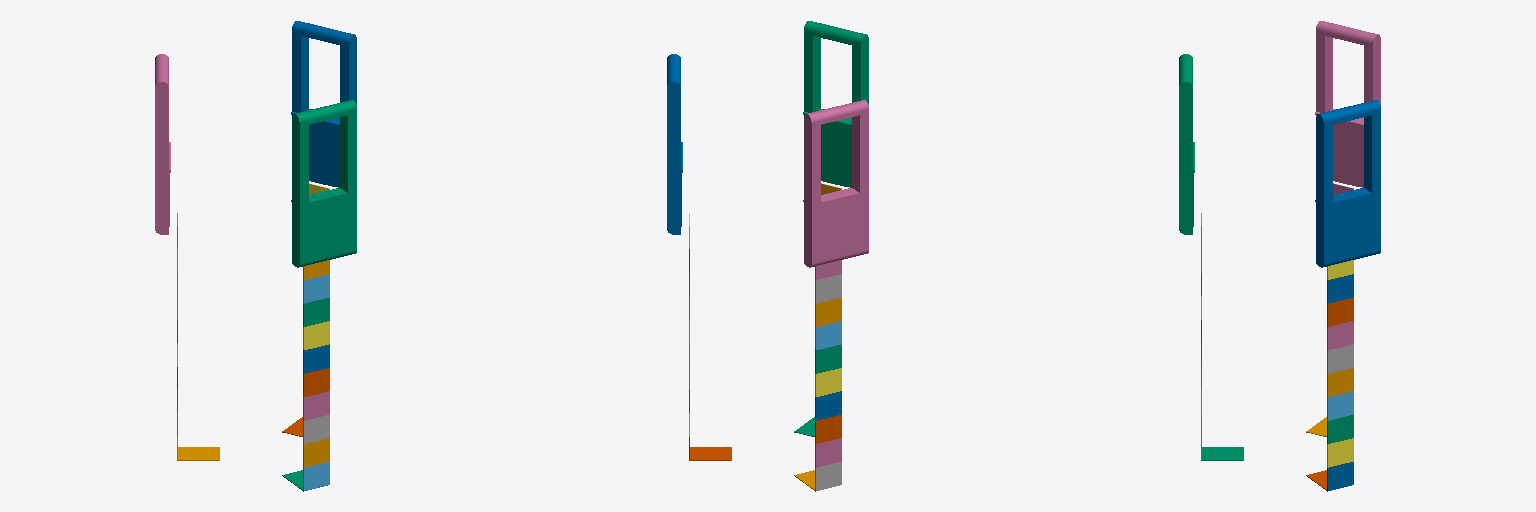
--- What the picture shows (computed from the rendered views, not written in the file) ---
3 views of the same robot in one strip: view 1: azimuth 30°, elevation 25°; view 2: azimuth 150°, elevation 25°; view 3: azimuth 270°, elevation 25° (orthographic).
Model gripper with 42 links and 41 joints (30 revolute, 4 prismatic, 7 fixed), rooted at world, posed joints at zero except 3 at the middle of their limits (finger_1_prismatic_joint = 0.0915, finger_2_prismatic_joint = 0.0915, finger_3_prismatic_joint = 0.0915).
Links seen in each view (by area): view 1: finger_1, finger_2, finger_3, finger_1_segment_link_7, finger_1_segment_link_2, finger_1_segment_link_3, finger_1_segment_link_5, finger_1_segment_link_9, finger_1_segment_link_4, finger_1_segment_link_10, finger_1_segment_link_6, finger_1_segment_link_8 (+1 smaller); view 2: finger_3, finger_1, finger_2, finger_3_segment_link_7, finger_3_segment_link_2, finger_3_segment_link_3, finger_3_segment_link_5, finger_3_segment_link_9, finger_3_segment_link_4, finger_3_segment_link_10, finger_3_segment_link_6, finger_3_segment_link_8 (+1 smaller); view 3: finger_2, finger_3, finger_1, finger_2_segment_link_7, finger_2_segment_link_2, finger_2_segment_link_3, finger_2_segment_link_5, finger_2_segment_link_9, finger_2_segment_link_4, finger_2_segment_link_10, finger_2_segment_link_6, finger_2_segment_link_8 (+1 smaller).
Boxes of the visible links, box(x1,y1,x2,y2) form: finger_1: box(291, 100, 356, 267); finger_2: box(291, 21, 356, 187); finger_3: box(155, 54, 170, 234); finger_1_segment_link_7: box(303, 391, 329, 420); finger_1_segment_link_2: box(303, 274, 329, 303); finger_1_segment_link_3: box(303, 298, 329, 326); finger_1_segment_link_5: box(303, 344, 329, 373); finger_1_segment_link_9: box(303, 438, 329, 467); finger_1_segment_link_4: box(303, 321, 329, 349); finger_1_segment_link_10: box(303, 462, 329, 490); finger_1_segment_link_6: box(303, 368, 329, 396); finger_1_segment_link_8: box(303, 415, 329, 443); finger_3: box(803, 100, 868, 267); finger_1: box(803, 21, 868, 187); finger_2: box(667, 54, 682, 234); finger_3_segment_link_7: box(815, 391, 841, 420); finger_3_segment_link_2: box(815, 274, 841, 303); finger_3_segment_link_3: box(815, 298, 841, 326); finger_3_segment_link_5: box(815, 344, 841, 373); finger_3_segment_link_9: box(815, 438, 841, 467); finger_3_segment_link_4: box(815, 321, 841, 349); finger_3_segment_link_10: box(815, 462, 841, 490); finger_3_segment_link_6: box(815, 368, 841, 396); finger_3_segment_link_8: box(815, 415, 841, 443); finger_2: box(1315, 100, 1380, 267); finger_3: box(1315, 21, 1380, 187); finger_1: box(1179, 54, 1194, 234); finger_2_segment_link_7: box(1327, 391, 1353, 420); finger_2_segment_link_2: box(1327, 274, 1353, 303); finger_2_segment_link_3: box(1327, 298, 1353, 326); finger_2_segment_link_5: box(1327, 344, 1353, 373); finger_2_segment_link_9: box(1327, 438, 1353, 467); finger_2_segment_link_4: box(1327, 321, 1353, 349); finger_2_segment_link_10: box(1327, 462, 1353, 490); finger_2_segment_link_6: box(1327, 368, 1353, 396); finger_2_segment_link_8: box(1327, 415, 1353, 443).
Size in the robot's own frame: 0.2121 by 0.1839 by 0.3874 metres.
Meshes: 4 distinct files referenced, 3 mesh visuals loaded (1 binary STL); not drawn: 5 (reference not matched to a file when rendering).

The robot description file, URDF, robot "gripper":
<?xml version="1.0" ?>
<!-- =================================================================================== -->
<!-- |    This document was autogenerated by xacro from gripper.urdf.xacro             | -->
<!-- |    EDITING THIS FILE BY HAND IS NOT RECOMMENDED                                 | -->
<!-- =================================================================================== -->
<robot name="gripper">
  <!-- PARAMETERS TO BE SET BY HAND -->
  <!-- END OF PARAMETERS TO BE SET BY HAND -->
  <!-- PARAMETERS TO BE SET BY HAND -->
  <!-- END OF PARAMETER TO BE SET BY HAND -->
  <!-- BASE LINK -->
  <link name="gripper_base_link">
    <inertial>
      <mass value="1.5"/>
      <origin rpy="3.141592653589793 0 0" xyz="0 0 0.025"/>
      <inertia ixx="9.95e-3" ixy="2.73e-6" ixz="-14.32e-6" iyy="10.08e-3" iyz="121.38e-6" izz="5.13e-3"/>
    </inertial>
    <visual>
      <geometry>
        <mesh filename="package://gripper_description/meshes/main body visual.STL"/>
      </geometry>
    </visual>
    <collision>
      <geometry>
        <!--          <mesh filename="package://gripper_description/meshes/main body collision.STL"/>-->
        <cylinder length="0.1" radius="0.03"/>
      </geometry>
    </collision>
  </link>
  <!-- Intermediate link for prismatic joint -->
  <link name="finger_1_intermediate">
    <inertial>
      <mass value="0.1"/>
      <origin rpy="0 0 0" xyz="0 0 0"/>
      <inertia ixx="55.59e-6" ixy="-47.23e-6" ixz="1.16e-6" iyy="146.36e-6" iyz="1.00e-6" izz="154.18e-6"/>
    </inertial>
    <visual>
      <geometry>
        <mesh filename="package://gripper_description/meshes/nut visual.STL"/>
      </geometry>
    </visual>
    <collision>
      <geometry>
        <mesh filename="package://gripper_description/meshes/nut collision.STL"/>
      </geometry>
    </collision>
  </link>
  <!-- Main finger link -->
  <link name="finger_1">
    <inertial>
      <mass value="0.1"/>
      <origin rpy="0 0 0" xyz="0 0 0"/>
      <inertia ixx="55.59e-6" ixy="-47.23e-6" ixz="1.16e-6" iyy="146.36e-6" iyz="1.00e-6" izz="154.18e-6"/>
    </inertial>
    <visual>
      <geometry>
        <mesh filename="package://gripper_description/meshes/platform only visual.STL"/>
      </geometry>
    </visual>
    <collision>
      <geometry>
        <mesh filename="package://gripper_description/meshes/platform only collision.STL"/>
      </geometry>
    </collision>
  </link>
  <!-- Prismatic joint -->
  <joint name="finger_1_prismatic_joint" type="prismatic">
    <axis rpy="0 0 0" xyz="0 1 0"/>
    <parent link="gripper_base_link"/>
    <child link="finger_1_intermediate"/>
    <origin rpy="4.71238898038469                    4.71238898038469                    1.5707963267948966" xyz="0.0                    0.0                    0"/>
    <limit effort="40.0" lower="0.049" upper="0.134" velocity="0.015"/>
    <dynamics damping="1.0"/>
  </joint>
  <!-- Revolute joint -->
  <joint name="finger_1_revolute_joint" type="revolute">
    <axis rpy="0 0 0" xyz="0 0 1"/>
    <parent link="finger_1_intermediate"/>
    <child link="finger_1"/>
    <origin rpy="0 0 0.0" xyz="0 0 0"/>
    <limit effort="40.0" lower="-0.7" upper="0.7" velocity="0.1"/>
    <dynamics damping="1.0"/>
  </joint>
  <!-- Intermediate link for prismatic joint -->
  <link name="finger_2_intermediate">
    <inertial>
      <mass value="0.1"/>
      <origin rpy="0 0 0" xyz="0 0 0"/>
      <inertia ixx="55.59e-6" ixy="-47.23e-6" ixz="1.16e-6" iyy="146.36e-6" iyz="1.00e-6" izz="154.18e-6"/>
    </inertial>
    <visual>
      <geometry>
        <mesh filename="package://gripper_description/meshes/nut visual.STL"/>
      </geometry>
    </visual>
    <collision>
      <geometry>
        <mesh filename="package://gripper_description/meshes/nut collision.STL"/>
      </geometry>
    </collision>
  </link>
  <!-- Main finger link -->
  <link name="finger_2">
    <inertial>
      <mass value="0.1"/>
      <origin rpy="0 0 0" xyz="0 0 0"/>
      <inertia ixx="55.59e-6" ixy="-47.23e-6" ixz="1.16e-6" iyy="146.36e-6" iyz="1.00e-6" izz="154.18e-6"/>
    </inertial>
    <visual>
      <geometry>
        <mesh filename="package://gripper_description/meshes/platform only visual.STL"/>
      </geometry>
    </visual>
    <collision>
      <geometry>
        <mesh filename="package://gripper_description/meshes/platform only collision.STL"/>
      </geometry>
    </collision>
  </link>
  <!-- Prismatic joint -->
  <joint name="finger_2_prismatic_joint" type="prismatic">
    <axis rpy="0 0 0" xyz="0 1 0"/>
    <parent link="gripper_base_link"/>
    <child link="finger_2_intermediate"/>
    <origin rpy="4.71238898038469                    4.71238898038469                    -0.5235987755982987" xyz="0.0                    -0.0                    0"/>
    <limit effort="40.0" lower="0.049" upper="0.134" velocity="0.015"/>
    <dynamics damping="1.0"/>
  </joint>
  <!-- Revolute joint -->
  <joint name="finger_2_revolute_joint" type="revolute">
    <axis rpy="0 0 0" xyz="0 0 1"/>
    <parent link="finger_2_intermediate"/>
    <child link="finger_2"/>
    <origin rpy="0 0 0.0" xyz="0 0 0"/>
    <limit effort="40.0" lower="-0.7" upper="0.7" velocity="0.1"/>
    <dynamics damping="1.0"/>
  </joint>
  <!-- Intermediate link for prismatic joint -->
  <link name="finger_3_intermediate">
    <inertial>
      <mass value="0.1"/>
      <origin rpy="0 0 0" xyz="0 0 0"/>
      <inertia ixx="55.59e-6" ixy="-47.23e-6" ixz="1.16e-6" iyy="146.36e-6" iyz="1.00e-6" izz="154.18e-6"/>
    </inertial>
    <visual>
      <geometry>
        <mesh filename="package://gripper_description/meshes/nut visual.STL"/>
      </geometry>
    </visual>
    <collision>
      <geometry>
        <mesh filename="package://gripper_description/meshes/nut collision.STL"/>
      </geometry>
    </collision>
  </link>
  <!-- Main finger link -->
  <link name="finger_3">
    <inertial>
      <mass value="0.1"/>
      <origin rpy="0 0 0" xyz="0 0 0"/>
      <inertia ixx="55.59e-6" ixy="-47.23e-6" ixz="1.16e-6" iyy="146.36e-6" iyz="1.00e-6" izz="154.18e-6"/>
    </inertial>
    <visual>
      <geometry>
        <mesh filename="package://gripper_description/meshes/platform only visual.STL"/>
      </geometry>
    </visual>
    <collision>
      <geometry>
        <mesh filename="package://gripper_description/meshes/platform only collision.STL"/>
      </geometry>
    </collision>
  </link>
  <!-- Prismatic joint -->
  <joint name="finger_3_prismatic_joint" type="prismatic">
    <axis rpy="0 0 0" xyz="0 1 0"/>
    <parent link="gripper_base_link"/>
    <child link="finger_3_intermediate"/>
    <origin rpy="4.71238898038469                    4.71238898038469                    -2.617993877991494" xyz="-0.0                    -0.0                    0"/>
    <limit effort="40.0" lower="0.049" upper="0.134" velocity="0.015"/>
    <dynamics damping="1.0"/>
  </joint>
  <!-- Revolute joint -->
  <joint name="finger_3_revolute_joint" type="revolute">
    <axis rpy="0 0 0" xyz="0 0 1"/>
    <parent link="finger_3_intermediate"/>
    <child link="finger_3"/>
    <origin rpy="0 0 0.0" xyz="0 0 0"/>
    <limit effort="40.0" lower="-0.7" upper="0.7" velocity="0.1"/>
    <dynamics damping="1.0"/>
  </joint>
  <!-- PALM -->
  <link name="palm">
    <inertial>
      <mass value="0.05"/>
      <origin rpy="0 0 0" xyz="0 0 0"/>
      <inertia ixx="10.0e-6" ixy="0.0" ixz="0.0" iyy="10.0e-6" iyz="0.0" izz="10.0e-6"/>
    </inertial>
    <visual>
      <origin rpy="0 0 0" xyz="0 0 0"/>
      <geometry>
        <mesh filename="package://gripper_description/meshes/palm visual.STL"/>
      </geometry>
    </visual>
    <collision>
      <geometry>
        <mesh filename="package://gripper_description/meshes/palm collision.STL"/>
      </geometry>
    </collision>
  </link>
  <joint name="palm_prismatic_joint" type="prismatic">
    <axis rpy="0 0 0" xyz="1 0 0"/>
    <parent link="gripper_base_link"/>
    <child link="palm"/>
    <origin rpy="0 -1.5707963267948966 0" xyz="0 0 0"/>
    <limit effort="40.0" lower="0.0" upper="0.165" velocity="0.036"/>
    <dynamics damping="1.0"/>
  </joint>
  <!-- PARAMETERS TO BE SET BY HAND -->
  <!-- END OF PARAMETERS TO BE SET BY HAND -->
  <link name="finger_1_segment_link_1">
    <inertial>
      <mass value="0.006444241316270568"/>
      <inertia ixx="4.21458752285192e-07" ixy="0.00" ixz="0.00" iyy="1.1867124085923218e-06" iyz="0.00" izz="1.6073011882998174e-06"/>
    </inertial>
    <visual>
      <origin rpy="0 0 0" xyz="0.01175 0 0"/>
      <geometry>
        <box size="0.0235 0.028 0.0009"/>
      </geometry>
    </visual>
    <collision>
      <origin rpy="0 0 0" xyz="0.01175 0 0"/>
      <geometry>
        <box size="0.0235 0.028 0.0009"/>
      </geometry>
    </collision>
  </link>
  <gazebo reference="finger_1_segment_link_1">
    <material>Gazebo/Orange</material>
    <mu1>0.1</mu1>
    <mu2>0.1</mu2>
    <maxVel>0.0</maxVel>
    <minDepth>0.001</minDepth>
    <!-- <kp>100</kp>
        <kd>1</kd> -->
  </gazebo>
  <link name="finger_1_segment_link_2">
    <inertial>
      <mass value="0.006444241316270568"/>
      <inertia ixx="4.21458752285192e-07" ixy="0.00" ixz="0.00" iyy="1.1867124085923218e-06" iyz="0.00" izz="1.6073011882998174e-06"/>
    </inertial>
    <visual>
      <origin rpy="0 0 0" xyz="0.01175 0 0"/>
      <geometry>
        <box size="0.0235 0.028 0.0009"/>
      </geometry>
    </visual>
    <collision>
      <origin rpy="0 0 0" xyz="0.01175 0 0"/>
      <geometry>
        <box size="0.0235 0.028 0.0009"/>
      </geometry>
    </collision>
  </link>
  <gazebo reference="finger_1_segment_link_2">
    <material>Gazebo/Orange</material>
    <mu1>0.1</mu1>
    <mu2>0.1</mu2>
    <maxVel>0.0</maxVel>
    <minDepth>0.001</minDepth>
    <!-- <kp>100</kp>
        <kd>1</kd> -->
  </gazebo>
  <!-- bending joint -->
  <joint name="finger_1_segment_joint_1" type="revolute">
    <axis rpy="0 0 0" xyz="0 1 0"/>
    <parent link="finger_1_segment_link_1"/>
    <child link="finger_1_segment_link_2"/>
    <origin rpy="0 0 0" xyz="0.0235 0 0"/>
    <limit effort="1000.0" lower="-1.0" upper="1.0" velocity="1.0"/>
    <dynamics damping="0.01" friction="0.0"/>
  </joint>
  <gazebo reference="finger_1_segment_joint_1">
    <provideFeedback>1</provideFeedback>
    <springReference>0.0</springReference>
    <implicitSpringDamper>1</implicitSpringDamper>
    <springStiffness>3.0</springStiffness>
  </gazebo>
  <!-- set transmission for gazebo ROS controllers-->
  <transmission name="finger_1_segment_tran_1">
    <type>transmission_interface/SimpleTransmission</type>
    <joint name="finger_1_segment_joint_1">
      <hardwareInterface>hardware_interface/EffortJointInterface</hardwareInterface>
    </joint>
    <actuator name="finger_1_segment_motor_1">
      <hardwareInterface>hardware_interface/EffortJointInterface</hardwareInterface>
      <mechanicalReduction>1</mechanicalReduction>
    </actuator>
  </transmission>
  <link name="finger_1_segment_link_3">
    <inertial>
      <mass value="0.006444241316270568"/>
      <inertia ixx="4.21458752285192e-07" ixy="0.00" ixz="0.00" iyy="1.1867124085923218e-06" iyz="0.00" izz="1.6073011882998174e-06"/>
    </inertial>
    <visual>
      <origin rpy="0 0 0" xyz="0.01175 0 0"/>
      <geometry>
        <box size="0.0235 0.028 0.0009"/>
      </geometry>
    </visual>
    <collision>
      <origin rpy="0 0 0" xyz="0.01175 0 0"/>
      <geometry>
        <box size="0.0235 0.028 0.0009"/>
      </geometry>
    </collision>
  </link>
  <gazebo reference="finger_1_segment_link_3">
    <material>Gazebo/Orange</material>
    <mu1>0.1</mu1>
    <mu2>0.1</mu2>
    <maxVel>0.0</maxVel>
    <minDepth>0.001</minDepth>
    <!-- <kp>100</kp>
        <kd>1</kd> -->
  </gazebo>
  <!-- bending joint -->
  <joint name="finger_1_segment_joint_2" type="revolute">
    <axis rpy="0 0 0" xyz="0 1 0"/>
    <parent link="finger_1_segment_link_2"/>
    <child link="finger_1_segment_link_3"/>
    <origin rpy="0 0 0" xyz="0.0235 0 0"/>
    <limit effort="1000.0" lower="-1.0" upper="1.0" velocity="1.0"/>
    <dynamics damping="0.01" friction="0.0"/>
  </joint>
  <gazebo reference="finger_1_segment_joint_2">
    <provideFeedback>1</provideFeedback>
    <springReference>0.0</springReference>
    <implicitSpringDamper>1</implicitSpringDamper>
    <springStiffness>3.0</springStiffness>
  </gazebo>
  <!-- set transmission for gazebo ROS controllers-->
  <transmission name="finger_1_segment_tran_2">
    <type>transmission_interface/SimpleTransmission</type>
    <joint name="finger_1_segment_joint_2">
      <hardwareInterface>hardware_interface/EffortJointInterface</hardwareInterface>
    </joint>
    <actuator name="finger_1_segment_motor_2">
      <hardwareInterface>hardware_interface/EffortJointInterface</hardwareInterface>
      <mechanicalReduction>1</mechanicalReduction>
    </actuator>
  </transmission>
  <link name="finger_1_segment_link_4">
    <inertial>
      <mass value="0.006444241316270568"/>
      <inertia ixx="4.21458752285192e-07" ixy="0.00" ixz="0.00" iyy="1.1867124085923218e-06" iyz="0.00" izz="1.6073011882998174e-06"/>
    </inertial>
    <visual>
      <origin rpy="0 0 0" xyz="0.01175 0 0"/>
      <geometry>
        <box size="0.0235 0.028 0.0009"/>
      </geometry>
    </visual>
    <collision>
      <origin rpy="0 0 0" xyz="0.01175 0 0"/>
      <geometry>
        <box size="0.0235 0.028 0.0009"/>
      </geometry>
    </collision>
  </link>
  <gazebo reference="finger_1_segment_link_4">
    <material>Gazebo/Orange</material>
    <mu1>0.1</mu1>
    <mu2>0.1</mu2>
    <maxVel>0.0</maxVel>
    <minDepth>0.001</minDepth>
    <!-- <kp>100</kp>
        <kd>1</kd> -->
  </gazebo>
  <!-- bending joint -->
  <joint name="finger_1_segment_joint_3" type="revolute">
    <axis rpy="0 0 0" xyz="0 1 0"/>
    <parent link="finger_1_segment_link_3"/>
    <child link="finger_1_segment_link_4"/>
    <origin rpy="0 0 0" xyz="0.0235 0 0"/>
    <limit effort="1000.0" lower="-1.0" upper="1.0" velocity="1.0"/>
    <dynamics damping="0.01" friction="0.0"/>
  </joint>
  <gazebo reference="finger_1_segment_joint_3">
    <provideFeedback>1</provideFeedback>
    <springReference>0.0</springReference>
    <implicitSpringDamper>1</implicitSpringDamper>
    <springStiffness>3.0</springStiffness>
  </gazebo>
  <!-- set transmission for gazebo ROS controllers-->
  <transmission name="finger_1_segment_tran_3">
    <type>transmission_interface/SimpleTransmission</type>
    <joint name="finger_1_segment_joint_3">
      <hardwareInterface>hardware_interface/EffortJointInterface</hardwareInterface>
    </joint>
    <actuator name="finger_1_segment_motor_3">
      <hardwareInterface>hardware_interface/EffortJointInterface</hardwareInterface>
      <mechanicalReduction>1</mechanicalReduction>
    </actuator>
  </transmission>
  <link name="finger_1_segment_link_5">
    <inertial>
      <mass value="0.006444241316270568"/>
      <inertia ixx="4.21458752285192e-07" ixy="0.00" ixz="0.00" iyy="1.1867124085923218e-06" iyz="0.00" izz="1.6073011882998174e-06"/>
    </inertial>
    <visual>
      <origin rpy="0 0 0" xyz="0.01175 0 0"/>
      <geometry>
        <box size="0.0235 0.028 0.0009"/>
      </geometry>
    </visual>
    <collision>
      <origin rpy="0 0 0" xyz="0.01175 0 0"/>
      <geometry>
        <box size="0.0235 0.028 0.0009"/>
      </geometry>
    </collision>
  </link>
  <gazebo reference="finger_1_segment_link_5">
    <material>Gazebo/Orange</material>
    <mu1>0.1</mu1>
    <mu2>0.1</mu2>
    <maxVel>0.0</maxVel>
    <minDepth>0.001</minDepth>
    <!-- <kp>100</kp>
        <kd>1</kd> -->
  </gazebo>
  <!-- bending joint -->
  <joint name="finger_1_segment_joint_4" type="revolute">
    <axis rpy="0 0 0" xyz="0 1 0"/>
    <parent link="finger_1_segment_link_4"/>
    <child link="finger_1_segment_link_5"/>
    <origin rpy="0 0 0" xyz="0.0235 0 0"/>
    <limit effort="1000.0" lower="-1.0" upper="1.0" velocity="1.0"/>
    <dynamics damping="0.01" friction="0.0"/>
  </joint>
  <gazebo reference="finger_1_segment_joint_4">
    <provideFeedback>1</provideFeedback>
    <springReference>0.0</springReference>
    <implicitSpringDamper>1</implicitSpringDamper>
    <springStiffness>3.0</springStiffness>
  </gazebo>
  <!-- set transmission for gazebo ROS controllers-->
  <transmission name="finger_1_segment_tran_4">
    <type>transmission_interface/SimpleTransmission</type>
    <joint name="finger_1_segment_joint_4">
      <hardwareInterface>hardware_interface/EffortJointInterface</hardwareInterface>
    </joint>
    <actuator name="finger_1_segment_motor_4">
      <hardwareInterface>hardware_interface/EffortJointInterface</hardwareInterface>
      <mechanicalReduction>1</mechanicalReduction>
    </actuator>
  </transmission>
  <link name="finger_1_segment_link_6">
    <inertial>
      <mass value="0.006444241316270568"/>
      <inertia ixx="4.21458752285192e-07" ixy="0.00" ixz="0.00" iyy="1.1867124085923218e-06" iyz="0.00" izz="1.6073011882998174e-06"/>
    </inertial>
    <visual>
      <origin rpy="0 0 0" xyz="0.01175 0 0"/>
      <geometry>
        <box size="0.0235 0.028 0.0009"/>
      </geometry>
    </visual>
    <collision>
      <origin rpy="0 0 0" xyz="0.01175 0 0"/>
      <geometry>
        <box size="0.0235 0.028 0.0009"/>
      </geometry>
    </collision>
  </link>
  <gazebo reference="finger_1_segment_link_6">
    <material>Gazebo/Orange</material>
    <mu1>0.1</mu1>
    <mu2>0.1</mu2>
    <maxVel>0.0</maxVel>
    <minDepth>0.001</minDepth>
    <!-- <kp>100</kp>
        <kd>1</kd> -->
  </gazebo>
  <!-- bending joint -->
  <joint name="finger_1_segment_joint_5" type="revolute">
    <axis rpy="0 0 0" xyz="0 1 0"/>
    <parent link="finger_1_segment_link_5"/>
    <child link="finger_1_segment_link_6"/>
    <origin rpy="0 0 0" xyz="0.0235 0 0"/>
    <limit effort="1000.0" lower="-1.0" upper="1.0" velocity="1.0"/>
    <dynamics damping="0.01" friction="0.0"/>
  </joint>
  <gazebo reference="finger_1_segment_joint_5">
    <provideFeedback>1</provideFeedback>
    <springReference>0.0</springReference>
    <implicitSpringDamper>1</implicitSpringDamper>
    <springStiffness>3.0</springStiffness>
  </gazebo>
  <!-- set transmission for gazebo ROS controllers-->
  <transmission name="finger_1_segment_tran_5">
    <type>transmission_interface/SimpleTransmission</type>
    <joint name="finger_1_segment_joint_5">
      <hardwareInterface>hardware_interface/EffortJointInterface</hardwareInterface>
    </joint>
    <actuator name="finger_1_segment_motor_5">
      <hardwareInterface>hardware_interface/EffortJointInterface</hardwareInterface>
      <mechanicalReduction>1</mechanicalReduction>
    </actuator>
  </transmission>
  <link name="finger_1_segment_link_7">
    <inertial>
      <mass value="0.006444241316270568"/>
      <inertia ixx="4.21458752285192e-07" ixy="0.00" ixz="0.00" iyy="1.1867124085923218e-06" iyz="0.00" izz="1.6073011882998174e-06"/>
    </inertial>
    <visual>
      <origin rpy="0 0 0" xyz="0.01175 0 0"/>
      <geometry>
        <box size="0.0235 0.028 0.0009"/>
      </geometry>
    </visual>
    <collision>
      <origin rpy="0 0 0" xyz="0.01175 0 0"/>
      <geometry>
        <box size="0.0235 0.028 0.0009"/>
      </geometry>
    </collision>
  </link>
  <gazebo reference="finger_1_segment_link_7">
    <material>Gazebo/Orange</material>
    <mu1>0.1</mu1>
    <mu2>0.1</mu2>
    <maxVel>0.0</maxVel>
    <minDepth>0.001</minDepth>
    <!-- <kp>100</kp>
        <kd>1</kd> -->
  </gazebo>
  <!-- bending joint -->
  <joint name="finger_1_segment_joint_6" type="revolute">
    <axis rpy="0 0 0" xyz="0 1 0"/>
    <parent link="finger_1_segment_link_6"/>
    <child link="finger_1_segment_link_7"/>
    <origin rpy="0 0 0" xyz="0.0235 0 0"/>
    <limit effort="1000.0" lower="-1.0" upper="1.0" velocity="1.0"/>
    <dynamics damping="0.01" friction="0.0"/>
  </joint>
  <gazebo reference="finger_1_segment_joint_6">
    <provideFeedback>1</provideFeedback>
    <springReference>0.0</springReference>
    <implicitSpringDamper>1</implicitSpringDamper>
    <springStiffness>3.0</springStiffness>
  </gazebo>
  <!-- set transmission for gazebo ROS controllers-->
  <transmission name="finger_1_segment_tran_6">
    <type>transmission_interface/SimpleTransmission</type>
    <joint name="finger_1_segment_joint_6">
      <hardwareInterface>hardware_interface/EffortJointInterface</hardwareInterface>
    </joint>
    <actuator name="finger_1_segment_motor_6">
      <hardwareInterface>hardware_interface/EffortJointInterface</hardwareInterface>
      <mechanicalReduction>1</mechanicalReduction>
    </actuator>
  </transmission>
  <link name="finger_1_segment_link_8">
    <inertial>
      <mass value="0.006444241316270568"/>
      <inertia ixx="4.21458752285192e-07" ixy="0.00" ixz="0.00" iyy="1.1867124085923218e-06" iyz="0.00" izz="1.6073011882998174e-06"/>
    </inertial>
    <visual>
      <origin rpy="0 0 0" xyz="0.01175 0 0"/>
      <geometry>
        <box size="0.0235 0.028 0.0009"/>
      </geometry>
    </visual>
    <collision>
      <origin rpy="0 0 0" xyz="0.01175 0 0"/>
      <geometry>
        <box size="0.0235 0.028 0.0009"/>
      </geometry>
    </collision>
  </link>
  <gazebo reference="finger_1_segment_link_8">
    <material>Gazebo/Orange</material>
    <mu1>0.1</mu1>
    <mu2>0.1</mu2>
    <maxVel>0.0</maxVel>
    <minDepth>0.001</minDepth>
    <!-- <kp>100</kp>
        <kd>1</kd> -->
  </gazebo>
  <!-- bending joint -->
  <joint name="finger_1_segment_joint_7" type="revolute">
    <axis rpy="0 0 0" xyz="0 1 0"/>
    <parent link="finger_1_segment_link_7"/>
    <child link="finger_1_segment_link_8"/>
    <origin rpy="0 0 0" xyz="0.0235 0 0"/>
    <limit effort="1000.0" lower="-1.0" upper="1.0" velocity="1.0"/>
    <dynamics damping="0.01" friction="0.0"/>
  </joint>
  <gazebo reference="finger_1_segment_joint_7">
    <provideFeedback>1</provideFeedback>
    <springReference>0.0</springReference>
    <implicitSpringDamper>1</implicitSpringDamper>
    <springStiffness>3.0</springStiffness>
  </gazebo>
  <!-- set transmission for gazebo ROS controllers-->
  <transmission name="finger_1_segment_tran_7">
    <type>transmission_interface/SimpleTransmission</type>
    <joint name="finger_1_segment_joint_7">
      <hardwareInterface>hardware_interface/EffortJointInterface</hardwareInterface>
    </joint>
    <actuator name="finger_1_segment_motor_7">
      <hardwareInterface>hardware_interface/EffortJointInterface</hardwareInterface>
      <mechanicalReduction>1</mechanicalReduction>
    </actuator>
  </transmission>
  <link name="finger_1_segment_link_9">
    <inertial>
      <mass value="0.006444241316270568"/>
      <inertia ixx="4.21458752285192e-07" ixy="0.00" ixz="0.00" iyy="1.1867124085923218e-06" iyz="0.00" izz="1.6073011882998174e-06"/>
    </inertial>
    <visual>
      <origin rpy="0 0 0" xyz="0.01175 0 0"/>
      <geometry>
        <box size="0.0235 0.028 0.0009"/>
      </geometry>
    </visual>
    <collision>
      <origin rpy="0 0 0" xyz="0.01175 0 0"/>
      <geometry>
        <box size="0.0235 0.028 0.0009"/>
      </geometry>
    </collision>
  </link>
  <gazebo reference="finger_1_segment_link_9">
    <material>Gazebo/Orange</material>
    <mu1>0.1</mu1>
    <mu2>0.1</mu2>
    <maxVel>0.0</maxVel>
    <minDepth>0.001</minDepth>
    <!-- <kp>100</kp>
        <kd>1</kd> -->
  </gazebo>
  <!-- bending joint -->
  <joint name="finger_1_segment_joint_8" type="revolute">
    <axis rpy="0 0 0" xyz="0 1 0"/>
    <parent link="finger_1_segment_link_8"/>
    <child link="finger_1_segment_link_9"/>
    <origin rpy="0 0 0" xyz="0.0235 0 0"/>
    <limit effort="1000.0" lower="-1.0" upper="1.0" velocity="1.0"/>
    <dynamics damping="0.01" friction="0.0"/>
  </joint>
  <gazebo reference="finger_1_segment_joint_8">
    <provideFeedback>1</provideFeedback>
    <springReference>0.0</springReference>
    <implicitSpringDamper>1</implicitSpringDamper>
    <springStiffness>3.0</springStiffness>
  </gazebo>
  <!-- set transmission for gazebo ROS controllers-->
  <transmission name="finger_1_segment_tran_8">
    <type>transmission_interface/SimpleTransmission</type>
    <joint name="finger_1_segment_joint_8">
      <hardwareInterface>hardware_interface/EffortJointInterface</hardwareInterface>
    </joint>
    <actuator name="finger_1_segment_motor_8">
      <hardwareInterface>hardware_interface/EffortJointInterface</hardwareInterface>
      <mechanicalReduction>1</mechanicalReduction>
    </actuator>
  </transmission>
  <link name="finger_1_segment_link_10">
    <inertial>
      <mass value="0.006444241316270568"/>
      <inertia ixx="4.21458752285192e-07" ixy="0.00" ixz="0.00" iyy="1.1867124085923218e-06" iyz="0.00" izz="1.6073011882998174e-06"/>
    </inertial>
    <visual>
      <origin rpy="0 0 0" xyz="0.01175 0 0"/>
      <geometry>
        <box size="0.0235 0.028 0.0009"/>
      </geometry>
    </visual>
    <collision>
      <origin rpy="0 0 0" xyz="0.01175 0 0"/>
      <geometry>
        <box size="0.0235 0.028 0.0009"/>
      </geometry>
    </collision>
  </link>
  <gazebo reference="finger_1_segment_link_10">
    <material>Gazebo/Orange</material>
    <mu1>0.1</mu1>
    <mu2>0.1</mu2>
    <maxVel>0.0</maxVel>
    <minDepth>0.001</minDepth>
    <!-- <kp>100</kp>
        <kd>1</kd> -->
  </gazebo>
  <!-- bending joint -->
  <joint name="finger_1_segment_joint_9" type="revolute">
    <axis rpy="0 0 0" xyz="0 1 0"/>
    <parent link="finger_1_segment_link_9"/>
    <child link="finger_1_segment_link_10"/>
    <origin rpy="0 0 0" xyz="0.0235 0 0"/>
    <limit effort="1000.0" lower="-1.0" upper="1.0" velocity="1.0"/>
    <dynamics damping="0.01" friction="0.0"/>
  </joint>
  <gazebo reference="finger_1_segment_joint_9">
    <provideFeedback>1</provideFeedback>
    <springReference>0.0</springReference>
    <implicitSpringDamper>1</implicitSpringDamper>
    <springStiffness>3.0</springStiffness>
  </gazebo>
  <!-- set transmission for gazebo ROS controllers-->
  <transmission name="finger_1_segment_tran_9">
    <type>transmission_interface/SimpleTransmission</type>
    <joint name="finger_1_segment_joint_9">
      <hardwareInterface>hardware_interface/EffortJointInterface</hardwareInterface>
    </joint>
    <actuator name="finger_1_segment_motor_9">
      <hardwareInterface>hardware_interface/EffortJointInterface</hardwareInterface>
      <mechanicalReduction>1</mechanicalReduction>
    </actuator>
  </transmission>
  <!-- Add the finger hook link -->
  <link name="finger_1_finger_hook_link">
    <inertial>
      <mass value="0.006444241316270568"/>
      <inertia ixx="4.21458752285192e-07" ixy="0.00" ixz="0.00" iyy="1.1867124085923218e-06" iyz="0.00" izz="1.6073011882998174e-06"/>
    </inertial>
    <visual>
      <origin rpy="0 0 0" xyz="0.01925 0 0"/>
      <geometry>
        <box size="0.0385 0.028 0.0009"/>
      </geometry>
    </visual>
    <collision>
      <origin rpy="0 0 0" xyz="0.01925 0 0"/>
      <geometry>
        <box size="0.0385 0.028 0.0009"/>
      </geometry>
    </collision>
  </link>
  <gazebo reference="finger_1_finger_hook_link">
    <material>Gazebo/Orange</material>
    <mu1>0.1</mu1>
    <mu2>0.1</mu2>
    <maxVel>0.0</maxVel>
    <minDepth>0.001</minDepth>
    <!-- <kp>100</kp>
        <kd>1</kd> -->
  </gazebo>
  <!-- Connect the finger hook via a fixed joint -->
  <joint name="finger_1_finger_hook_joint" type="fixed">
    <parent link="finger_1_segment_link_10"/>
    <child link="finger_1_finger_hook_link"/>
    <origin rpy="0 -1.5707963267948502 0" xyz="0.0235 0 0"/>
  </joint>
  <!-- PARAMETERS TO BE SET BY HAND -->
  <!-- END OF PARAMETERS TO BE SET BY HAND -->
  <link name="finger_2_segment_link_1">
    <inertial>
      <mass value="0.006444241316270568"/>
      <inertia ixx="4.21458752285192e-07" ixy="0.00" ixz="0.00" iyy="1.1867124085923218e-06" iyz="0.00" izz="1.6073011882998174e-06"/>
    </inertial>
    <visual>
      <origin rpy="0 0 0" xyz="0.01175 0 0"/>
      <geometry>
        <box size="0.0235 0.028 0.0009"/>
      </geometry>
    </visual>
    <collision>
      <origin rpy="0 0 0" xyz="0.01175 0 0"/>
      <geometry>
        <box size="0.0235 0.028 0.0009"/>
      </geometry>
    </collision>
  </link>
  <gazebo reference="finger_2_segment_link_1">
    <material>Gazebo/Orange</material>
    <mu1>0.1</mu1>
    <mu2>0.1</mu2>
    <maxVel>0.0</maxVel>
    <minDepth>0.001</minDepth>
    <!-- <kp>100</kp>
        <kd>1</kd> -->
  </gazebo>
  <link name="finger_2_segment_link_2">
    <inertial>
      <mass value="0.006444241316270568"/>
      <inertia ixx="4.21458752285192e-07" ixy="0.00" ixz="0.00" iyy="1.1867124085923218e-06" iyz="0.00" izz="1.6073011882998174e-06"/>
    </inertial>
    <visual>
      <origin rpy="0 0 0" xyz="0.01175 0 0"/>
      <geometry>
        <box size="0.0235 0.028 0.0009"/>
      </geometry>
    </visual>
    <collision>
      <origin rpy="0 0 0" xyz="0.01175 0 0"/>
      <geometry>
        <box size="0.0235 0.028 0.0009"/>
      </geometry>
    </collision>
  </link>
  <gazebo reference="finger_2_segment_link_2">
    <material>Gazebo/Orange</material>
    <mu1>0.1</mu1>
    <mu2>0.1</mu2>
    <maxVel>0.0</maxVel>
    <minDepth>0.001</minDepth>
    <!-- <kp>100</kp>
        <kd>1</kd> -->
  </gazebo>
  <!-- bending joint -->
  <joint name="finger_2_segment_joint_1" type="revolute">
    <axis rpy="0 0 0" xyz="0 1 0"/>
    <parent link="finger_2_segment_link_1"/>
    <child link="finger_2_segment_link_2"/>
    <origin rpy="0 0 0" xyz="0.0235 0 0"/>
    <limit effort="1000.0" lower="-1.0" upper="1.0" velocity="1.0"/>
    <dynamics damping="0.01" friction="0.0"/>
  </joint>
  <gazebo reference="finger_2_segment_joint_1">
    <provideFeedback>1</provideFeedback>
    <springReference>0.0</springReference>
    <implicitSpringDamper>1</implicitSpringDamper>
    <springStiffness>3.0</springStiffness>
  </gazebo>
  <!-- set transmission for gazebo ROS controllers-->
  <transmission name="finger_2_segment_tran_1">
    <type>transmission_interface/SimpleTransmission</type>
    <joint name="finger_2_segment_joint_1">
      <hardwareInterface>hardware_interface/EffortJointInterface</hardwareInterface>
    </joint>
    <actuator name="finger_2_segment_motor_1">
      <hardwareInterface>hardware_interface/EffortJointInterface</hardwareInterface>
      <mechanicalReduction>1</mechanicalReduction>
    </actuator>
  </transmission>
  <link name="finger_2_segment_link_3">
    <inertial>
      <mass value="0.006444241316270568"/>
      <inertia ixx="4.21458752285192e-07" ixy="0.00" ixz="0.00" iyy="1.1867124085923218e-06" iyz="0.00" izz="1.6073011882998174e-06"/>
    </inertial>
    <visual>
      <origin rpy="0 0 0" xyz="0.01175 0 0"/>
      <geometry>
        <box size="0.0235 0.028 0.0009"/>
      </geometry>
    </visual>
    <collision>
      <origin rpy="0 0 0" xyz="0.01175 0 0"/>
      <geometry>
        <box size="0.0235 0.028 0.0009"/>
      </geometry>
    </collision>
  </link>
  <gazebo reference="finger_2_segment_link_3">
    <material>Gazebo/Orange</material>
    <mu1>0.1</mu1>
    <mu2>0.1</mu2>
    <maxVel>0.0</maxVel>
    <minDepth>0.001</minDepth>
    <!-- <kp>100</kp>
        <kd>1</kd> -->
  </gazebo>
  <!-- bending joint -->
  <joint name="finger_2_segment_joint_2" type="revolute">
    <axis rpy="0 0 0" xyz="0 1 0"/>
    <parent link="finger_2_segment_link_2"/>
    <child link="finger_2_segment_link_3"/>
    <origin rpy="0 0 0" xyz="0.0235 0 0"/>
    <limit effort="1000.0" lower="-1.0" upper="1.0" velocity="1.0"/>
    <dynamics damping="0.01" friction="0.0"/>
  </joint>
  <gazebo reference="finger_2_segment_joint_2">
    <provideFeedback>1</provideFeedback>
    <springReference>0.0</springReference>
    <implicitSpringDamper>1</implicitSpringDamper>
    <springStiffness>3.0</springStiffness>
  </gazebo>
  <!-- set transmission for gazebo ROS controllers-->
  <transmission name="finger_2_segment_tran_2">
    <type>transmission_interface/SimpleTransmission</type>
    <joint name="finger_2_segment_joint_2">
      <hardwareInterface>hardware_interface/EffortJointInterface</hardwareInterface>
    </joint>
    <actuator name="finger_2_segment_motor_2">
      <hardwareInterface>hardware_interface/EffortJointInterface</hardwareInterface>
      <mechanicalReduction>1</mechanicalReduction>
    </actuator>
  </transmission>
  <link name="finger_2_segment_link_4">
    <inertial>
      <mass value="0.006444241316270568"/>
      <inertia ixx="4.21458752285192e-07" ixy="0.00" ixz="0.00" iyy="1.1867124085923218e-06" iyz="0.00" izz="1.6073011882998174e-06"/>
    </inertial>
    <visual>
      <origin rpy="0 0 0" xyz="0.01175 0 0"/>
      <geometry>
        <box size="0.0235 0.028 0.0009"/>
      </geometry>
    </visual>
    <collision>
      <origin rpy="0 0 0" xyz="0.01175 0 0"/>
      <geometry>
        <box size="0.0235 0.028 0.0009"/>
      </geometry>
    </collision>
  </link>
  <gazebo reference="finger_2_segment_link_4">
    <material>Gazebo/Orange</material>
    <mu1>0.1</mu1>
    <mu2>0.1</mu2>
    <maxVel>0.0</maxVel>
    <minDepth>0.001</minDepth>
    <!-- <kp>100</kp>
        <kd>1</kd> -->
  </gazebo>
  <!-- bending joint -->
  <joint name="finger_2_segment_joint_3" type="revolute">
    <axis rpy="0 0 0" xyz="0 1 0"/>
    <parent link="finger_2_segment_link_3"/>
    <child link="finger_2_segment_link_4"/>
    <origin rpy="0 0 0" xyz="0.0235 0 0"/>
    <limit effort="1000.0" lower="-1.0" upper="1.0" velocity="1.0"/>
    <dynamics damping="0.01" friction="0.0"/>
  </joint>
  <gazebo reference="finger_2_segment_joint_3">
    <provideFeedback>1</provideFeedback>
    <springReference>0.0</springReference>
    <implicitSpringDamper>1</implicitSpringDamper>
    <springStiffness>3.0</springStiffness>
  </gazebo>
  <!-- set transmission for gazebo ROS controllers-->
  <transmission name="finger_2_segment_tran_3">
    <type>transmission_interface/SimpleTransmission</type>
    <joint name="finger_2_segment_joint_3">
      <hardwareInterface>hardware_interface/EffortJointInterface</hardwareInterface>
    </joint>
    <actuator name="finger_2_segment_motor_3">
      <hardwareInterface>hardware_interface/EffortJointInterface</hardwareInterface>
      <mechanicalReduction>1</mechanicalReduction>
    </actuator>
  </transmission>
  <link name="finger_2_segment_link_5">
    <inertial>
      <mass value="0.006444241316270568"/>
      <inertia ixx="4.21458752285192e-07" ixy="0.00" ixz="0.00" iyy="1.1867124085923218e-06" iyz="0.00" izz="1.6073011882998174e-06"/>
    </inertial>
    <visual>
      <origin rpy="0 0 0" xyz="0.01175 0 0"/>
      <geometry>
        <box size="0.0235 0.028 0.0009"/>
      </geometry>
    </visual>
    <collision>
      <origin rpy="0 0 0" xyz="0.01175 0 0"/>
      <geometry>
        <box size="0.0235 0.028 0.0009"/>
      </geometry>
    </collision>
  </link>
  <gazebo reference="finger_2_segment_link_5">
    <material>Gazebo/Orange</material>
    <mu1>0.1</mu1>
    <mu2>0.1</mu2>
    <maxVel>0.0</maxVel>
    <minDepth>0.001</minDepth>
    <!-- <kp>100</kp>
        <kd>1</kd> -->
  </gazebo>
  <!-- bending joint -->
  <joint name="finger_2_segment_joint_4" type="revolute">
    <axis rpy="0 0 0" xyz="0 1 0"/>
    <parent link="finger_2_segment_link_4"/>
    <child link="finger_2_segment_link_5"/>
    <origin rpy="0 0 0" xyz="0.0235 0 0"/>
    <limit effort="1000.0" lower="-1.0" upper="1.0" velocity="1.0"/>
    <dynamics damping="0.01" friction="0.0"/>
  </joint>
  <gazebo reference="finger_2_segment_joint_4">
    <provideFeedback>1</provideFeedback>
    <springReference>0.0</springReference>
    <implicitSpringDamper>1</implicitSpringDamper>
    <springStiffness>3.0</springStiffness>
  </gazebo>
  <!-- set transmission for gazebo ROS controllers-->
  <transmission name="finger_2_segment_tran_4">
    <type>transmission_interface/SimpleTransmission</type>
    <joint name="finger_2_segment_joint_4">
      <hardwareInterface>hardware_interface/EffortJointInterface</hardwareInterface>
    </joint>
    <actuator name="finger_2_segment_motor_4">
      <hardwareInterface>hardware_interface/EffortJointInterface</hardwareInterface>
      <mechanicalReduction>1</mechanicalReduction>
    </actuator>
  </transmission>
  <link name="finger_2_segment_link_6">
    <inertial>
      <mass value="0.006444241316270568"/>
      <inertia ixx="4.21458752285192e-07" ixy="0.00" ixz="0.00" iyy="1.1867124085923218e-06" iyz="0.00" izz="1.6073011882998174e-06"/>
    </inertial>
    <visual>
      <origin rpy="0 0 0" xyz="0.01175 0 0"/>
      <geometry>
        <box size="0.0235 0.028 0.0009"/>
      </geometry>
    </visual>
    <collision>
      <origin rpy="0 0 0" xyz="0.01175 0 0"/>
      <geometry>
        <box size="0.0235 0.028 0.0009"/>
      </geometry>
    </collision>
  </link>
  <gazebo reference="finger_2_segment_link_6">
    <material>Gazebo/Orange</material>
    <mu1>0.1</mu1>
    <mu2>0.1</mu2>
    <maxVel>0.0</maxVel>
    <minDepth>0.001</minDepth>
    <!-- <kp>100</kp>
        <kd>1</kd> -->
  </gazebo>
  <!-- bending joint -->
  <joint name="finger_2_segment_joint_5" type="revolute">
    <axis rpy="0 0 0" xyz="0 1 0"/>
    <parent link="finger_2_segment_link_5"/>
    <child link="finger_2_segment_link_6"/>
    <origin rpy="0 0 0" xyz="0.0235 0 0"/>
    <limit effort="1000.0" lower="-1.0" upper="1.0" velocity="1.0"/>
    <dynamics damping="0.01" friction="0.0"/>
  </joint>
  <gazebo reference="finger_2_segment_joint_5">
    <provideFeedback>1</provideFeedback>
    <springReference>0.0</springReference>
    <implicitSpringDamper>1</implicitSpringDamper>
    <springStiffness>3.0</springStiffness>
  </gazebo>
  <!-- set transmission for gazebo ROS controllers-->
  <transmission name="finger_2_segment_tran_5">
    <type>transmission_interface/SimpleTransmission</type>
    <joint name="finger_2_segment_joint_5">
      <hardwareInterface>hardware_interface/EffortJointInterface</hardwareInterface>
    </joint>
    <actuator name="finger_2_segment_motor_5">
      <hardwareInterface>hardware_interface/EffortJointInterface</hardwareInterface>
      <mechanicalReduction>1</mechanicalReduction>
    </actuator>
  </transmission>
  <link name="finger_2_segment_link_7">
    <inertial>
      <mass value="0.006444241316270568"/>
      <inertia ixx="4.21458752285192e-07" ixy="0.00" ixz="0.00" iyy="1.1867124085923218e-06" iyz="0.00" izz="1.6073011882998174e-06"/>
    </inertial>
    <visual>
      <origin rpy="0 0 0" xyz="0.01175 0 0"/>
      <geometry>
        <box size="0.0235 0.028 0.0009"/>
      </geometry>
    </visual>
    <collision>
      <origin rpy="0 0 0" xyz="0.01175 0 0"/>
      <geometry>
        <box size="0.0235 0.028 0.0009"/>
      </geometry>
    </collision>
  </link>
  <gazebo reference="finger_2_segment_link_7">
    <material>Gazebo/Orange</material>
    <mu1>0.1</mu1>
    <mu2>0.1</mu2>
    <maxVel>0.0</maxVel>
    <minDepth>0.001</minDepth>
    <!-- <kp>100</kp>
        <kd>1</kd> -->
  </gazebo>
  <!-- bending joint -->
  <joint name="finger_2_segment_joint_6" type="revolute">
    <axis rpy="0 0 0" xyz="0 1 0"/>
    <parent link="finger_2_segment_link_6"/>
    <child link="finger_2_segment_link_7"/>
    <origin rpy="0 0 0" xyz="0.0235 0 0"/>
    <limit effort="1000.0" lower="-1.0" upper="1.0" velocity="1.0"/>
    <dynamics damping="0.01" friction="0.0"/>
  </joint>
  <gazebo reference="finger_2_segment_joint_6">
    <provideFeedback>1</provideFeedback>
    <springReference>0.0</springReference>
    <implicitSpringDamper>1</implicitSpringDamper>
    <springStiffness>3.0</springStiffness>
  </gazebo>
  <!-- set transmission for gazebo ROS controllers-->
  <transmission name="finger_2_segment_tran_6">
    <type>transmission_interface/SimpleTransmission</type>
    <joint name="finger_2_segment_joint_6">
      <hardwareInterface>hardware_interface/EffortJointInterface</hardwareInterface>
    </joint>
    <actuator name="finger_2_segment_motor_6">
      <hardwareInterface>hardware_interface/EffortJointInterface</hardwareInterface>
      <mechanicalReduction>1</mechanicalReduction>
    </actuator>
  </transmission>
  <link name="finger_2_segment_link_8">
    <inertial>
      <mass value="0.006444241316270568"/>
      <inertia ixx="4.21458752285192e-07" ixy="0.00" ixz="0.00" iyy="1.1867124085923218e-06" iyz="0.00" izz="1.6073011882998174e-06"/>
    </inertial>
    <visual>
      <origin rpy="0 0 0" xyz="0.01175 0 0"/>
      <geometry>
        <box size="0.0235 0.028 0.0009"/>
      </geometry>
    </visual>
    <collision>
      <origin rpy="0 0 0" xyz="0.01175 0 0"/>
      <geometry>
        <box size="0.0235 0.028 0.0009"/>
      </geometry>
    </collision>
  </link>
  <gazebo reference="finger_2_segment_link_8">
    <material>Gazebo/Orange</material>
    <mu1>0.1</mu1>
    <mu2>0.1</mu2>
    <maxVel>0.0</maxVel>
    <minDepth>0.001</minDepth>
    <!-- <kp>100</kp>
        <kd>1</kd> -->
  </gazebo>
  <!-- bending joint -->
  <joint name="finger_2_segment_joint_7" type="revolute">
    <axis rpy="0 0 0" xyz="0 1 0"/>
    <parent link="finger_2_segment_link_7"/>
    <child link="finger_2_segment_link_8"/>
    <origin rpy="0 0 0" xyz="0.0235 0 0"/>
    <limit effort="1000.0" lower="-1.0" upper="1.0" velocity="1.0"/>
    <dynamics damping="0.01" friction="0.0"/>
  </joint>
  <gazebo reference="finger_2_segment_joint_7">
    <provideFeedback>1</provideFeedback>
    <springReference>0.0</springReference>
    <implicitSpringDamper>1</implicitSpringDamper>
    <springStiffness>3.0</springStiffness>
  </gazebo>
  <!-- set transmission for gazebo ROS controllers-->
  <transmission name="finger_2_segment_tran_7">
    <type>transmission_interface/SimpleTransmission</type>
    <joint name="finger_2_segment_joint_7">
      <hardwareInterface>hardware_interface/EffortJointInterface</hardwareInterface>
    </joint>
    <actuator name="finger_2_segment_motor_7">
      <hardwareInterface>hardware_interface/EffortJointInterface</hardwareInterface>
      <mechanicalReduction>1</mechanicalReduction>
    </actuator>
  </transmission>
  <link name="finger_2_segment_link_9">
    <inertial>
      <mass value="0.006444241316270568"/>
      <inertia ixx="4.21458752285192e-07" ixy="0.00" ixz="0.00" iyy="1.1867124085923218e-06" iyz="0.00" izz="1.6073011882998174e-06"/>
    </inertial>
    <visual>
      <origin rpy="0 0 0" xyz="0.01175 0 0"/>
      <geometry>
        <box size="0.0235 0.028 0.0009"/>
      </geometry>
    </visual>
    <collision>
      <origin rpy="0 0 0" xyz="0.01175 0 0"/>
      <geometry>
        <box size="0.0235 0.028 0.0009"/>
      </geometry>
    </collision>
  </link>
  <gazebo reference="finger_2_segment_link_9">
    <material>Gazebo/Orange</material>
    <mu1>0.1</mu1>
    <mu2>0.1</mu2>
    <maxVel>0.0</maxVel>
    <minDepth>0.001</minDepth>
    <!-- <kp>100</kp>
        <kd>1</kd> -->
  </gazebo>
  <!-- bending joint -->
  <joint name="finger_2_segment_joint_8" type="revolute">
    <axis rpy="0 0 0" xyz="0 1 0"/>
    <parent link="finger_2_segment_link_8"/>
    <child link="finger_2_segment_link_9"/>
    <origin rpy="0 0 0" xyz="0.0235 0 0"/>
    <limit effort="1000.0" lower="-1.0" upper="1.0" velocity="1.0"/>
    <dynamics damping="0.01" friction="0.0"/>
  </joint>
  <gazebo reference="finger_2_segment_joint_8">
    <provideFeedback>1</provideFeedback>
    <springReference>0.0</springReference>
    <implicitSpringDamper>1</implicitSpringDamper>
    <springStiffness>3.0</springStiffness>
  </gazebo>
  <!-- set transmission for gazebo ROS controllers-->
  <transmission name="finger_2_segment_tran_8">
    <type>transmission_interface/SimpleTransmission</type>
    <joint name="finger_2_segment_joint_8">
      <hardwareInterface>hardware_interface/EffortJointInterface</hardwareInterface>
    </joint>
    <actuator name="finger_2_segment_motor_8">
      <hardwareInterface>hardware_interface/EffortJointInterface</hardwareInterface>
      <mechanicalReduction>1</mechanicalReduction>
    </actuator>
  </transmission>
  <link name="finger_2_segment_link_10">
    <inertial>
      <mass value="0.006444241316270568"/>
      <inertia ixx="4.21458752285192e-07" ixy="0.00" ixz="0.00" iyy="1.1867124085923218e-06" iyz="0.00" izz="1.6073011882998174e-06"/>
    </inertial>
    <visual>
      <origin rpy="0 0 0" xyz="0.01175 0 0"/>
      <geometry>
        <box size="0.0235 0.028 0.0009"/>
      </geometry>
    </visual>
    <collision>
      <origin rpy="0 0 0" xyz="0.01175 0 0"/>
      <geometry>
        <box size="0.0235 0.028 0.0009"/>
      </geometry>
    </collision>
  </link>
  <gazebo reference="finger_2_segment_link_10">
    <material>Gazebo/Orange</material>
    <mu1>0.1</mu1>
    <mu2>0.1</mu2>
    <maxVel>0.0</maxVel>
    <minDepth>0.001</minDepth>
    <!-- <kp>100</kp>
        <kd>1</kd> -->
  </gazebo>
  <!-- bending joint -->
  <joint name="finger_2_segment_joint_9" type="revolute">
    <axis rpy="0 0 0" xyz="0 1 0"/>
    <parent link="finger_2_segment_link_9"/>
    <child link="finger_2_segment_link_10"/>
    <origin rpy="0 0 0" xyz="0.0235 0 0"/>
    <limit effort="1000.0" lower="-1.0" upper="1.0" velocity="1.0"/>
    <dynamics damping="0.01" friction="0.0"/>
  </joint>
  <gazebo reference="finger_2_segment_joint_9">
    <provideFeedback>1</provideFeedback>
    <springReference>0.0</springReference>
    <implicitSpringDamper>1</implicitSpringDamper>
    <springStiffness>3.0</springStiffness>
  </gazebo>
  <!-- set transmission for gazebo ROS controllers-->
  <transmission name="finger_2_segment_tran_9">
    <type>transmission_interface/SimpleTransmission</type>
    <joint name="finger_2_segment_joint_9">
      <hardwareInterface>hardware_interface/EffortJointInterface</hardwareInterface>
    </joint>
    <actuator name="finger_2_segment_motor_9">
      <hardwareInterface>hardware_interface/EffortJointInterface</hardwareInterface>
      <mechanicalReduction>1</mechanicalReduction>
    </actuator>
  </transmission>
  <!-- Add the finger hook link -->
  <link name="finger_2_finger_hook_link">
    <inertial>
      <mass value="0.006444241316270568"/>
      <inertia ixx="4.21458752285192e-07" ixy="0.00" ixz="0.00" iyy="1.1867124085923218e-06" iyz="0.00" izz="1.6073011882998174e-06"/>
    </inertial>
    <visual>
      <origin rpy="0 0 0" xyz="0.01925 0 0"/>
      <geometry>
        <box size="0.0385 0.028 0.0009"/>
      </geometry>
    </visual>
    <collision>
      <origin rpy="0 0 0" xyz="0.01925 0 0"/>
      <geometry>
        <box size="0.0385 0.028 0.0009"/>
      </geometry>
    </collision>
  </link>
  <gazebo reference="finger_2_finger_hook_link">
    <material>Gazebo/Orange</material>
    <mu1>0.1</mu1>
    <mu2>0.1</mu2>
    <maxVel>0.0</maxVel>
    <minDepth>0.001</minDepth>
    <!-- <kp>100</kp>
        <kd>1</kd> -->
  </gazebo>
  <!-- Connect the finger hook via a fixed joint -->
  <joint name="finger_2_finger_hook_joint" type="fixed">
    <parent link="finger_2_segment_link_10"/>
    <child link="finger_2_finger_hook_link"/>
    <origin rpy="0 -1.5707963267948502 0" xyz="0.0235 0 0"/>
  </joint>
  <!-- PARAMETERS TO BE SET BY HAND -->
  <!-- END OF PARAMETERS TO BE SET BY HAND -->
  <link name="finger_3_segment_link_1">
    <inertial>
      <mass value="0.006444241316270568"/>
      <inertia ixx="4.21458752285192e-07" ixy="0.00" ixz="0.00" iyy="1.1867124085923218e-06" iyz="0.00" izz="1.6073011882998174e-06"/>
    </inertial>
    <visual>
      <origin rpy="0 0 0" xyz="0.01175 0 0"/>
      <geometry>
        <box size="0.0235 0.028 0.0009"/>
      </geometry>
    </visual>
    <collision>
      <origin rpy="0 0 0" xyz="0.01175 0 0"/>
      <geometry>
        <box size="0.0235 0.028 0.0009"/>
      </geometry>
    </collision>
  </link>
  <gazebo reference="finger_3_segment_link_1">
    <material>Gazebo/Orange</material>
    <mu1>0.1</mu1>
    <mu2>0.1</mu2>
    <maxVel>0.0</maxVel>
    <minDepth>0.001</minDepth>
    <!-- <kp>100</kp>
        <kd>1</kd> -->
  </gazebo>
  <link name="finger_3_segment_link_2">
    <inertial>
      <mass value="0.006444241316270568"/>
      <inertia ixx="4.21458752285192e-07" ixy="0.00" ixz="0.00" iyy="1.1867124085923218e-06" iyz="0.00" izz="1.6073011882998174e-06"/>
    </inertial>
    <visual>
      <origin rpy="0 0 0" xyz="0.01175 0 0"/>
      <geometry>
        <box size="0.0235 0.028 0.0009"/>
      </geometry>
    </visual>
    <collision>
      <origin rpy="0 0 0" xyz="0.01175 0 0"/>
      <geometry>
        <box size="0.0235 0.028 0.0009"/>
      </geometry>
    </collision>
  </link>
  <gazebo reference="finger_3_segment_link_2">
    <material>Gazebo/Orange</material>
    <mu1>0.1</mu1>
    <mu2>0.1</mu2>
    <maxVel>0.0</maxVel>
    <minDepth>0.001</minDepth>
    <!-- <kp>100</kp>
        <kd>1</kd> -->
  </gazebo>
  <!-- bending joint -->
  <joint name="finger_3_segment_joint_1" type="revolute">
    <axis rpy="0 0 0" xyz="0 1 0"/>
    <parent link="finger_3_segment_link_1"/>
    <child link="finger_3_segment_link_2"/>
    <origin rpy="0 0 0" xyz="0.0235 0 0"/>
    <limit effort="1000.0" lower="-1.0" upper="1.0" velocity="1.0"/>
    <dynamics damping="0.01" friction="0.0"/>
  </joint>
  <gazebo reference="finger_3_segment_joint_1">
    <provideFeedback>1</provideFeedback>
    <springReference>0.0</springReference>
    <implicitSpringDamper>1</implicitSpringDamper>
    <springStiffness>3.0</springStiffness>
  </gazebo>
  <!-- set transmission for gazebo ROS controllers-->
  <transmission name="finger_3_segment_tran_1">
    <type>transmission_interface/SimpleTransmission</type>
    <joint name="finger_3_segment_joint_1">
      <hardwareInterface>hardware_interface/EffortJointInterface</hardwareInterface>
    </joint>
    <actuator name="finger_3_segment_motor_1">
      <hardwareInterface>hardware_interface/EffortJointInterface</hardwareInterface>
      <mechanicalReduction>1</mechanicalReduction>
    </actuator>
  </transmission>
  <link name="finger_3_segment_link_3">
    <inertial>
      <mass value="0.006444241316270568"/>
      <inertia ixx="4.21458752285192e-07" ixy="0.00" ixz="0.00" iyy="1.1867124085923218e-06" iyz="0.00" izz="1.6073011882998174e-06"/>
    </inertial>
    <visual>
      <origin rpy="0 0 0" xyz="0.01175 0 0"/>
      <geometry>
        <box size="0.0235 0.028 0.0009"/>
      </geometry>
    </visual>
    <collision>
      <origin rpy="0 0 0" xyz="0.01175 0 0"/>
      <geometry>
        <box size="0.0235 0.028 0.0009"/>
      </geometry>
    </collision>
  </link>
  <gazebo reference="finger_3_segment_link_3">
    <material>Gazebo/Orange</material>
    <mu1>0.1</mu1>
    <mu2>0.1</mu2>
    <maxVel>0.0</maxVel>
    <minDepth>0.001</minDepth>
    <!-- <kp>100</kp>
        <kd>1</kd> -->
  </gazebo>
  <!-- bending joint -->
  <joint name="finger_3_segment_joint_2" type="revolute">
    <axis rpy="0 0 0" xyz="0 1 0"/>
    <parent link="finger_3_segment_link_2"/>
    <child link="finger_3_segment_link_3"/>
    <origin rpy="0 0 0" xyz="0.0235 0 0"/>
    <limit effort="1000.0" lower="-1.0" upper="1.0" velocity="1.0"/>
    <dynamics damping="0.01" friction="0.0"/>
  </joint>
  <gazebo reference="finger_3_segment_joint_2">
    <provideFeedback>1</provideFeedback>
    <springReference>0.0</springReference>
    <implicitSpringDamper>1</implicitSpringDamper>
    <springStiffness>3.0</springStiffness>
  </gazebo>
  <!-- set transmission for gazebo ROS controllers-->
  <transmission name="finger_3_segment_tran_2">
    <type>transmission_interface/SimpleTransmission</type>
    <joint name="finger_3_segment_joint_2">
      <hardwareInterface>hardware_interface/EffortJointInterface</hardwareInterface>
    </joint>
    <actuator name="finger_3_segment_motor_2">
      <hardwareInterface>hardware_interface/EffortJointInterface</hardwareInterface>
      <mechanicalReduction>1</mechanicalReduction>
    </actuator>
  </transmission>
  <link name="finger_3_segment_link_4">
    <inertial>
      <mass value="0.006444241316270568"/>
      <inertia ixx="4.21458752285192e-07" ixy="0.00" ixz="0.00" iyy="1.1867124085923218e-06" iyz="0.00" izz="1.6073011882998174e-06"/>
    </inertial>
    <visual>
      <origin rpy="0 0 0" xyz="0.01175 0 0"/>
      <geometry>
        <box size="0.0235 0.028 0.0009"/>
      </geometry>
    </visual>
    <collision>
      <origin rpy="0 0 0" xyz="0.01175 0 0"/>
      <geometry>
        <box size="0.0235 0.028 0.0009"/>
      </geometry>
    </collision>
  </link>
  <gazebo reference="finger_3_segment_link_4">
    <material>Gazebo/Orange</material>
    <mu1>0.1</mu1>
    <mu2>0.1</mu2>
    <maxVel>0.0</maxVel>
    <minDepth>0.001</minDepth>
    <!-- <kp>100</kp>
        <kd>1</kd> -->
  </gazebo>
  <!-- bending joint -->
  <joint name="finger_3_segment_joint_3" type="revolute">
    <axis rpy="0 0 0" xyz="0 1 0"/>
    <parent link="finger_3_segment_link_3"/>
    <child link="finger_3_segment_link_4"/>
    <origin rpy="0 0 0" xyz="0.0235 0 0"/>
    <limit effort="1000.0" lower="-1.0" upper="1.0" velocity="1.0"/>
    <dynamics damping="0.01" friction="0.0"/>
  </joint>
  <gazebo reference="finger_3_segment_joint_3">
    <provideFeedback>1</provideFeedback>
    <springReference>0.0</springReference>
    <implicitSpringDamper>1</implicitSpringDamper>
    <springStiffness>3.0</springStiffness>
  </gazebo>
  <!-- set transmission for gazebo ROS controllers-->
  <transmission name="finger_3_segment_tran_3">
    <type>transmission_interface/SimpleTransmission</type>
    <joint name="finger_3_segment_joint_3">
      <hardwareInterface>hardware_interface/EffortJointInterface</hardwareInterface>
    </joint>
    <actuator name="finger_3_segment_motor_3">
      <hardwareInterface>hardware_interface/EffortJointInterface</hardwareInterface>
      <mechanicalReduction>1</mechanicalReduction>
    </actuator>
  </transmission>
  <link name="finger_3_segment_link_5">
    <inertial>
      <mass value="0.006444241316270568"/>
      <inertia ixx="4.21458752285192e-07" ixy="0.00" ixz="0.00" iyy="1.1867124085923218e-06" iyz="0.00" izz="1.6073011882998174e-06"/>
    </inertial>
    <visual>
      <origin rpy="0 0 0" xyz="0.01175 0 0"/>
      <geometry>
        <box size="0.0235 0.028 0.0009"/>
      </geometry>
    </visual>
    <collision>
      <origin rpy="0 0 0" xyz="0.01175 0 0"/>
      <geometry>
        <box size="0.0235 0.028 0.0009"/>
      </geometry>
    </collision>
  </link>
  <gazebo reference="finger_3_segment_link_5">
    <material>Gazebo/Orange</material>
    <mu1>0.1</mu1>
    <mu2>0.1</mu2>
    <maxVel>0.0</maxVel>
    <minDepth>0.001</minDepth>
    <!-- <kp>100</kp>
        <kd>1</kd> -->
  </gazebo>
  <!-- bending joint -->
  <joint name="finger_3_segment_joint_4" type="revolute">
    <axis rpy="0 0 0" xyz="0 1 0"/>
    <parent link="finger_3_segment_link_4"/>
    <child link="finger_3_segment_link_5"/>
    <origin rpy="0 0 0" xyz="0.0235 0 0"/>
    <limit effort="1000.0" lower="-1.0" upper="1.0" velocity="1.0"/>
    <dynamics damping="0.01" friction="0.0"/>
  </joint>
  <gazebo reference="finger_3_segment_joint_4">
    <provideFeedback>1</provideFeedback>
    <springReference>0.0</springReference>
    <implicitSpringDamper>1</implicitSpringDamper>
    <springStiffness>3.0</springStiffness>
  </gazebo>
  <!-- set transmission for gazebo ROS controllers-->
  <transmission name="finger_3_segment_tran_4">
    <type>transmission_interface/SimpleTransmission</type>
    <joint name="finger_3_segment_joint_4">
      <hardwareInterface>hardware_interface/EffortJointInterface</hardwareInterface>
    </joint>
    <actuator name="finger_3_segment_motor_4">
      <hardwareInterface>hardware_interface/EffortJointInterface</hardwareInterface>
      <mechanicalReduction>1</mechanicalReduction>
    </actuator>
  </transmission>
  <link name="finger_3_segment_link_6">
    <inertial>
      <mass value="0.006444241316270568"/>
      <inertia ixx="4.21458752285192e-07" ixy="0.00" ixz="0.00" iyy="1.1867124085923218e-06" iyz="0.00" izz="1.6073011882998174e-06"/>
    </inertial>
    <visual>
      <origin rpy="0 0 0" xyz="0.01175 0 0"/>
      <geometry>
        <box size="0.0235 0.028 0.0009"/>
      </geometry>
    </visual>
    <collision>
      <origin rpy="0 0 0" xyz="0.01175 0 0"/>
      <geometry>
        <box size="0.0235 0.028 0.0009"/>
      </geometry>
    </collision>
  </link>
  <gazebo reference="finger_3_segment_link_6">
    <material>Gazebo/Orange</material>
    <mu1>0.1</mu1>
    <mu2>0.1</mu2>
    <maxVel>0.0</maxVel>
    <minDepth>0.001</minDepth>
    <!-- <kp>100</kp>
        <kd>1</kd> -->
  </gazebo>
  <!-- bending joint -->
  <joint name="finger_3_segment_joint_5" type="revolute">
    <axis rpy="0 0 0" xyz="0 1 0"/>
    <parent link="finger_3_segment_link_5"/>
    <child link="finger_3_segment_link_6"/>
    <origin rpy="0 0 0" xyz="0.0235 0 0"/>
    <limit effort="1000.0" lower="-1.0" upper="1.0" velocity="1.0"/>
    <dynamics damping="0.01" friction="0.0"/>
  </joint>
  <gazebo reference="finger_3_segment_joint_5">
    <provideFeedback>1</provideFeedback>
    <springReference>0.0</springReference>
    <implicitSpringDamper>1</implicitSpringDamper>
    <springStiffness>3.0</springStiffness>
  </gazebo>
  <!-- set transmission for gazebo ROS controllers-->
  <transmission name="finger_3_segment_tran_5">
    <type>transmission_interface/SimpleTransmission</type>
    <joint name="finger_3_segment_joint_5">
      <hardwareInterface>hardware_interface/EffortJointInterface</hardwareInterface>
    </joint>
    <actuator name="finger_3_segment_motor_5">
      <hardwareInterface>hardware_interface/EffortJointInterface</hardwareInterface>
      <mechanicalReduction>1</mechanicalReduction>
    </actuator>
  </transmission>
  <link name="finger_3_segment_link_7">
    <inertial>
      <mass value="0.006444241316270568"/>
      <inertia ixx="4.21458752285192e-07" ixy="0.00" ixz="0.00" iyy="1.1867124085923218e-06" iyz="0.00" izz="1.6073011882998174e-06"/>
    </inertial>
    <visual>
      <origin rpy="0 0 0" xyz="0.01175 0 0"/>
      <geometry>
        <box size="0.0235 0.028 0.0009"/>
      </geometry>
    </visual>
    <collision>
      <origin rpy="0 0 0" xyz="0.01175 0 0"/>
      <geometry>
        <box size="0.0235 0.028 0.0009"/>
      </geometry>
    </collision>
  </link>
  <gazebo reference="finger_3_segment_link_7">
    <material>Gazebo/Orange</material>
    <mu1>0.1</mu1>
    <mu2>0.1</mu2>
    <maxVel>0.0</maxVel>
    <minDepth>0.001</minDepth>
    <!-- <kp>100</kp>
        <kd>1</kd> -->
  </gazebo>
  <!-- bending joint -->
  <joint name="finger_3_segment_joint_6" type="revolute">
    <axis rpy="0 0 0" xyz="0 1 0"/>
    <parent link="finger_3_segment_link_6"/>
    <child link="finger_3_segment_link_7"/>
    <origin rpy="0 0 0" xyz="0.0235 0 0"/>
    <limit effort="1000.0" lower="-1.0" upper="1.0" velocity="1.0"/>
    <dynamics damping="0.01" friction="0.0"/>
  </joint>
  <gazebo reference="finger_3_segment_joint_6">
    <provideFeedback>1</provideFeedback>
    <springReference>0.0</springReference>
    <implicitSpringDamper>1</implicitSpringDamper>
    <springStiffness>3.0</springStiffness>
  </gazebo>
  <!-- set transmission for gazebo ROS controllers-->
  <transmission name="finger_3_segment_tran_6">
    <type>transmission_interface/SimpleTransmission</type>
    <joint name="finger_3_segment_joint_6">
      <hardwareInterface>hardware_interface/EffortJointInterface</hardwareInterface>
    </joint>
    <actuator name="finger_3_segment_motor_6">
      <hardwareInterface>hardware_interface/EffortJointInterface</hardwareInterface>
      <mechanicalReduction>1</mechanicalReduction>
    </actuator>
  </transmission>
  <link name="finger_3_segment_link_8">
    <inertial>
      <mass value="0.006444241316270568"/>
      <inertia ixx="4.21458752285192e-07" ixy="0.00" ixz="0.00" iyy="1.1867124085923218e-06" iyz="0.00" izz="1.6073011882998174e-06"/>
    </inertial>
    <visual>
      <origin rpy="0 0 0" xyz="0.01175 0 0"/>
      <geometry>
        <box size="0.0235 0.028 0.0009"/>
      </geometry>
    </visual>
    <collision>
      <origin rpy="0 0 0" xyz="0.01175 0 0"/>
      <geometry>
        <box size="0.0235 0.028 0.0009"/>
      </geometry>
    </collision>
  </link>
  <gazebo reference="finger_3_segment_link_8">
    <material>Gazebo/Orange</material>
    <mu1>0.1</mu1>
    <mu2>0.1</mu2>
    <maxVel>0.0</maxVel>
    <minDepth>0.001</minDepth>
    <!-- <kp>100</kp>
        <kd>1</kd> -->
  </gazebo>
  <!-- bending joint -->
  <joint name="finger_3_segment_joint_7" type="revolute">
    <axis rpy="0 0 0" xyz="0 1 0"/>
    <parent link="finger_3_segment_link_7"/>
    <child link="finger_3_segment_link_8"/>
    <origin rpy="0 0 0" xyz="0.0235 0 0"/>
    <limit effort="1000.0" lower="-1.0" upper="1.0" velocity="1.0"/>
    <dynamics damping="0.01" friction="0.0"/>
  </joint>
  <gazebo reference="finger_3_segment_joint_7">
    <provideFeedback>1</provideFeedback>
    <springReference>0.0</springReference>
    <implicitSpringDamper>1</implicitSpringDamper>
    <springStiffness>3.0</springStiffness>
  </gazebo>
  <!-- set transmission for gazebo ROS controllers-->
  <transmission name="finger_3_segment_tran_7">
    <type>transmission_interface/SimpleTransmission</type>
    <joint name="finger_3_segment_joint_7">
      <hardwareInterface>hardware_interface/EffortJointInterface</hardwareInterface>
    </joint>
    <actuator name="finger_3_segment_motor_7">
      <hardwareInterface>hardware_interface/EffortJointInterface</hardwareInterface>
      <mechanicalReduction>1</mechanicalReduction>
    </actuator>
  </transmission>
  <link name="finger_3_segment_link_9">
    <inertial>
      <mass value="0.006444241316270568"/>
      <inertia ixx="4.21458752285192e-07" ixy="0.00" ixz="0.00" iyy="1.1867124085923218e-06" iyz="0.00" izz="1.6073011882998174e-06"/>
    </inertial>
    <visual>
      <origin rpy="0 0 0" xyz="0.01175 0 0"/>
      <geometry>
        <box size="0.0235 0.028 0.0009"/>
      </geometry>
    </visual>
    <collision>
      <origin rpy="0 0 0" xyz="0.01175 0 0"/>
      <geometry>
        <box size="0.0235 0.028 0.0009"/>
      </geometry>
    </collision>
  </link>
  <gazebo reference="finger_3_segment_link_9">
    <material>Gazebo/Orange</material>
    <mu1>0.1</mu1>
    <mu2>0.1</mu2>
    <maxVel>0.0</maxVel>
    <minDepth>0.001</minDepth>
    <!-- <kp>100</kp>
        <kd>1</kd> -->
  </gazebo>
  <!-- bending joint -->
  <joint name="finger_3_segment_joint_8" type="revolute">
    <axis rpy="0 0 0" xyz="0 1 0"/>
    <parent link="finger_3_segment_link_8"/>
    <child link="finger_3_segment_link_9"/>
    <origin rpy="0 0 0" xyz="0.0235 0 0"/>
    <limit effort="1000.0" lower="-1.0" upper="1.0" velocity="1.0"/>
    <dynamics damping="0.01" friction="0.0"/>
  </joint>
  <gazebo reference="finger_3_segment_joint_8">
    <provideFeedback>1</provideFeedback>
    <springReference>0.0</springReference>
    <implicitSpringDamper>1</implicitSpringDamper>
    <springStiffness>3.0</springStiffness>
  </gazebo>
  <!-- set transmission for gazebo ROS controllers-->
  <transmission name="finger_3_segment_tran_8">
    <type>transmission_interface/SimpleTransmission</type>
    <joint name="finger_3_segment_joint_8">
      <hardwareInterface>hardware_interface/EffortJointInterface</hardwareInterface>
    </joint>
    <actuator name="finger_3_segment_motor_8">
      <hardwareInterface>hardware_interface/EffortJointInterface</hardwareInterface>
      <mechanicalReduction>1</mechanicalReduction>
    </actuator>
  </transmission>
  <link name="finger_3_segment_link_10">
    <inertial>
      <mass value="0.006444241316270568"/>
      <inertia ixx="4.21458752285192e-07" ixy="0.00" ixz="0.00" iyy="1.1867124085923218e-06" iyz="0.00" izz="1.6073011882998174e-06"/>
    </inertial>
    <visual>
      <origin rpy="0 0 0" xyz="0.01175 0 0"/>
      <geometry>
        <box size="0.0235 0.028 0.0009"/>
      </geometry>
    </visual>
    <collision>
      <origin rpy="0 0 0" xyz="0.01175 0 0"/>
      <geometry>
        <box size="0.0235 0.028 0.0009"/>
      </geometry>
    </collision>
  </link>
  <gazebo reference="finger_3_segment_link_10">
    <material>Gazebo/Orange</material>
    <mu1>0.1</mu1>
    <mu2>0.1</mu2>
    <maxVel>0.0</maxVel>
    <minDepth>0.001</minDepth>
    <!-- <kp>100</kp>
        <kd>1</kd> -->
  </gazebo>
  <!-- bending joint -->
  <joint name="finger_3_segment_joint_9" type="revolute">
    <axis rpy="0 0 0" xyz="0 1 0"/>
    <parent link="finger_3_segment_link_9"/>
    <child link="finger_3_segment_link_10"/>
    <origin rpy="0 0 0" xyz="0.0235 0 0"/>
    <limit effort="1000.0" lower="-1.0" upper="1.0" velocity="1.0"/>
    <dynamics damping="0.01" friction="0.0"/>
  </joint>
  <gazebo reference="finger_3_segment_joint_9">
    <provideFeedback>1</provideFeedback>
    <springReference>0.0</springReference>
    <implicitSpringDamper>1</implicitSpringDamper>
    <springStiffness>3.0</springStiffness>
  </gazebo>
  <!-- set transmission for gazebo ROS controllers-->
  <transmission name="finger_3_segment_tran_9">
    <type>transmission_interface/SimpleTransmission</type>
    <joint name="finger_3_segment_joint_9">
      <hardwareInterface>hardware_interface/EffortJointInterface</hardwareInterface>
    </joint>
    <actuator name="finger_3_segment_motor_9">
      <hardwareInterface>hardware_interface/EffortJointInterface</hardwareInterface>
      <mechanicalReduction>1</mechanicalReduction>
    </actuator>
  </transmission>
  <!-- Add the finger hook link -->
  <link name="finger_3_finger_hook_link">
    <inertial>
      <mass value="0.006444241316270568"/>
      <inertia ixx="4.21458752285192e-07" ixy="0.00" ixz="0.00" iyy="1.1867124085923218e-06" iyz="0.00" izz="1.6073011882998174e-06"/>
    </inertial>
    <visual>
      <origin rpy="0 0 0" xyz="0.01925 0 0"/>
      <geometry>
        <box size="0.0385 0.028 0.0009"/>
      </geometry>
    </visual>
    <collision>
      <origin rpy="0 0 0" xyz="0.01925 0 0"/>
      <geometry>
        <box size="0.0385 0.028 0.0009"/>
      </geometry>
    </collision>
  </link>
  <gazebo reference="finger_3_finger_hook_link">
    <material>Gazebo/Orange</material>
    <mu1>0.1</mu1>
    <mu2>0.1</mu2>
    <maxVel>0.0</maxVel>
    <minDepth>0.001</minDepth>
    <!-- <kp>100</kp>
        <kd>1</kd> -->
  </gazebo>
  <!-- Connect the finger hook via a fixed joint -->
  <joint name="finger_3_finger_hook_joint" type="fixed">
    <parent link="finger_3_segment_link_10"/>
    <child link="finger_3_finger_hook_link"/>
    <origin rpy="0 -1.5707963267948502 0" xyz="0.0235 0 0"/>
  </joint>
  <gazebo>
    <plugin filename="libfinger_controller_plugin.so" name="finger_controller_plugin"/>
  </gazebo>
  <!-- attach them to the gripper -->
  <joint name="to_segmented_finger_1" type="fixed">
    <origin rpy="1.5707963267948966 0 0" xyz="0.129 -0.007 0"/>
    <parent link="finger_1"/>
    <child link="finger_1_segment_link_1"/>
  </joint>
  <joint name="to_segmented_finger_2" type="fixed">
    <origin rpy="1.5707963267948966 0 0" xyz="0.129 -0.007 0"/>
    <parent link="finger_2"/>
    <child link="finger_2_segment_link_1"/>
  </joint>
  <joint name="to_segmented_finger_3" type="fixed">
    <origin rpy="1.5707963267948966 0 0" xyz="0.129 -0.007 0"/>
    <parent link="finger_3"/>
    <child link="finger_3_segment_link_1"/>
  </joint>
  <!-- attach gripper to the ground for gazebo -->
  <link name="world"/>
  <joint name="world_to_base" type="fixed">
    <origin rpy="3.141592653589793 0 0" xyz="0 0 1"/>
    <parent link="world"/>
    <child link="gripper_base_link"/>
  </joint>
</robot>
